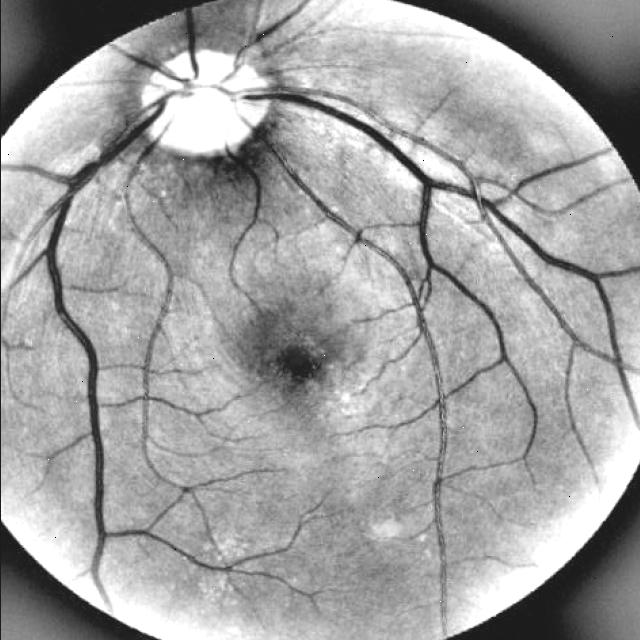Macula: (273, 313, 325, 374)
Nerves: (0, 0, 640, 639)
Optic Disk: (140, 49, 268, 156)
